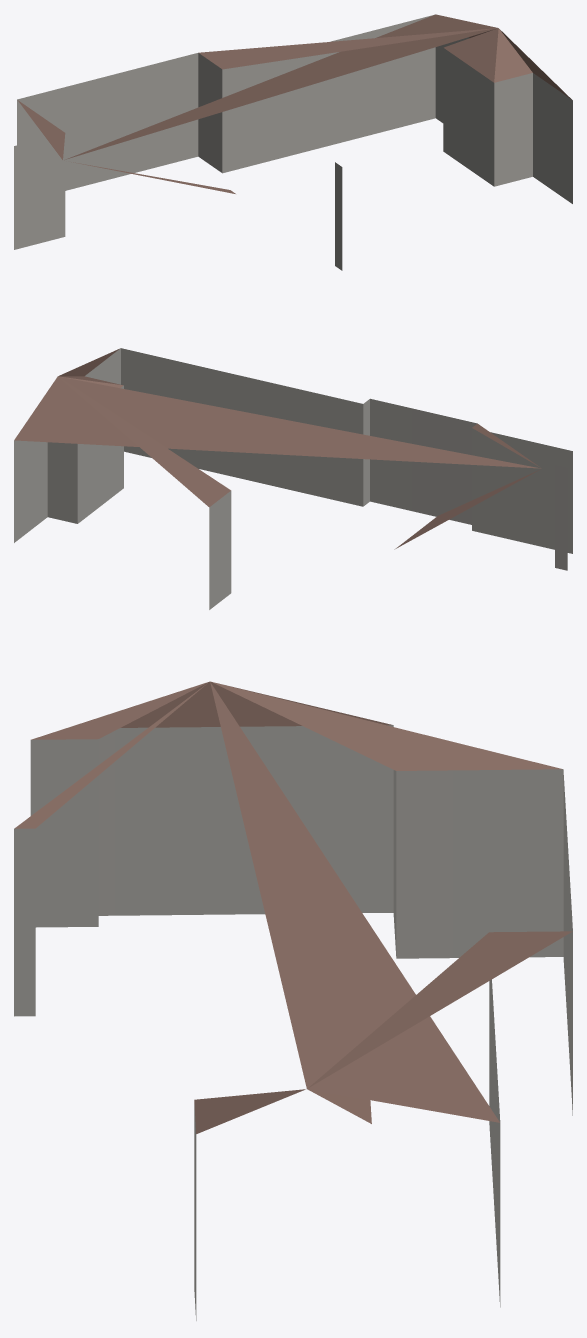
Rendered from c_1635_17830_buildings_civic.glb.
3 views of the same model, one above another, from view 1: azimuth 30°, elevation 25°; view 2: azimuth 150°, elevation 25°; view 3: azimuth 270°, elevation 25° (orthographic). The views are drawn at different scales.
Parts seen in each view (by area): view 1: geometry_0; view 2: geometry_0; view 3: geometry_0.
Part boxes in pixels (x1,y1,x2,y2): geometry_0: (14, 14, 572, 270); geometry_0: (14, 348, 572, 609); geometry_0: (14, 681, 572, 1320).
Size of the model in its own units: 70.67 by 18.36 by 40.49.
